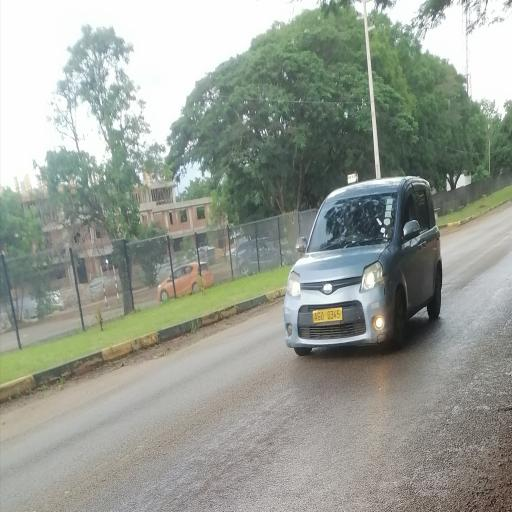number-plates: (312, 307, 344, 327)
